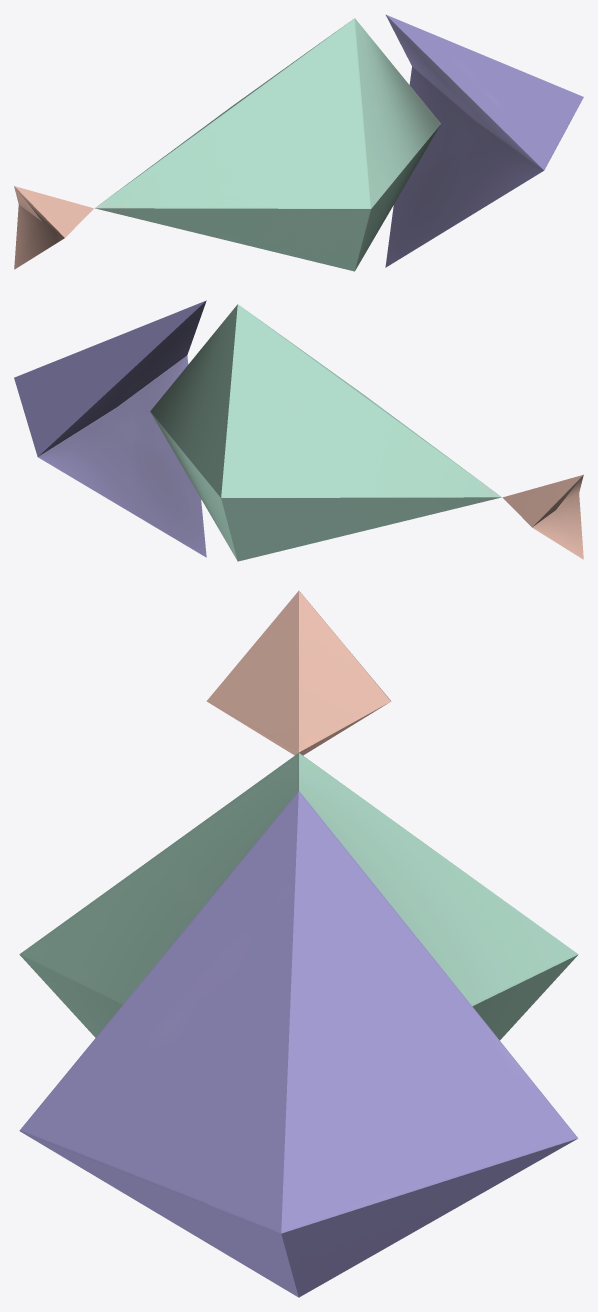
Rendered from mainfish.glb.
3 renders of one model, top to bottom at view 1: azimuth 30°, elevation 25°; view 2: azimuth 150°, elevation 25°; view 3: azimuth 270°, elevation 25°, orthographic. The views are drawn at different scales.
Parts seen in each view (by area): view 1: fish; view 2: fish; view 3: fish.
Boxes of the visible parts, bbox=[...] form: fish: bbox=[14, 14, 583, 271]; fish: bbox=[14, 300, 583, 561]; fish: bbox=[19, 590, 578, 1297].
Size of the model in its own units: 4.67 by 2.03 by 2.
1 material, 1 textured.
